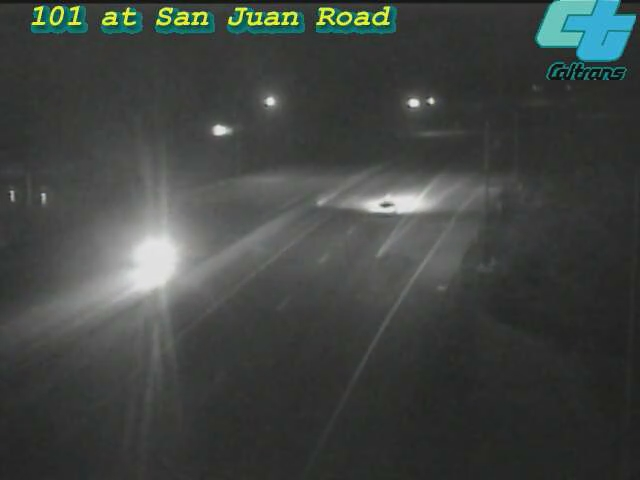vehicle: (344, 168, 424, 248), (112, 217, 192, 297)
